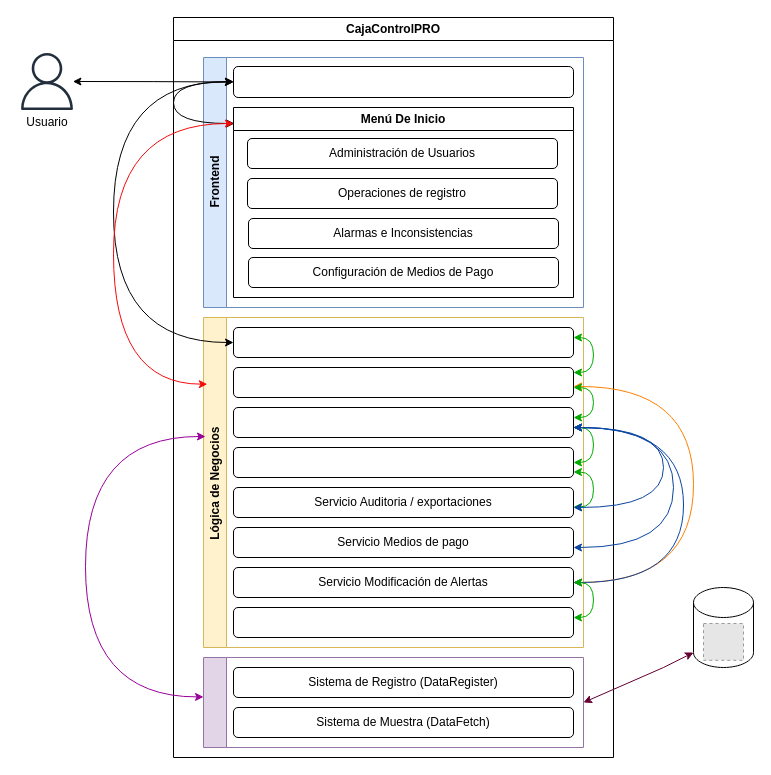
This 771x775 diagram has some shape labels left out. Grey dashed boxes stand in for pictures. Here are the shapes that lost their labels. From the top down, the box of each, then its label:
(232, 66, 574, 98): Login
(232, 326, 574, 358): Servicio Autenticación
(232, 366, 574, 398): Servicio Usuario
(232, 406, 574, 438): Servicio Caja
(232, 446, 574, 478): Servicio Reportes
(232, 606, 574, 638): Servicio Notificaciones
(202, 656, 584, 748): Capa acceso a datos
